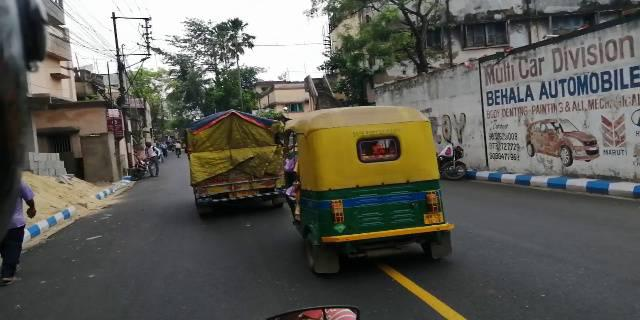Autorickshaw: (280, 101, 459, 281)
Minitruck: (182, 106, 284, 222)
